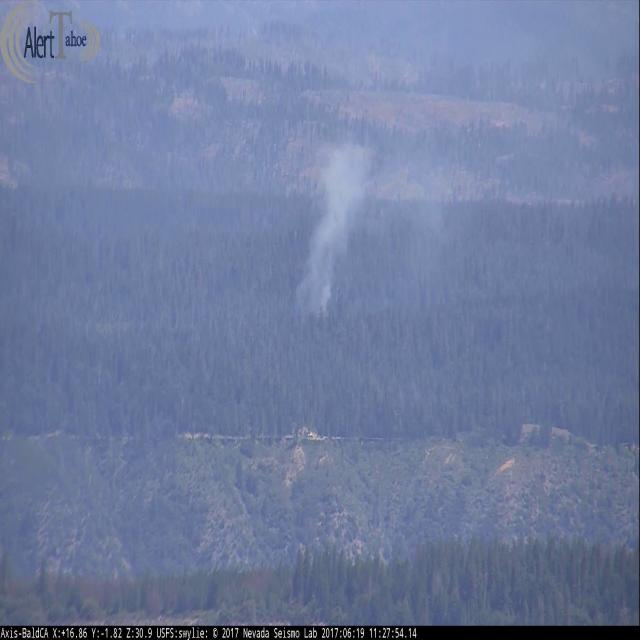smoke: (284, 123, 386, 320)
